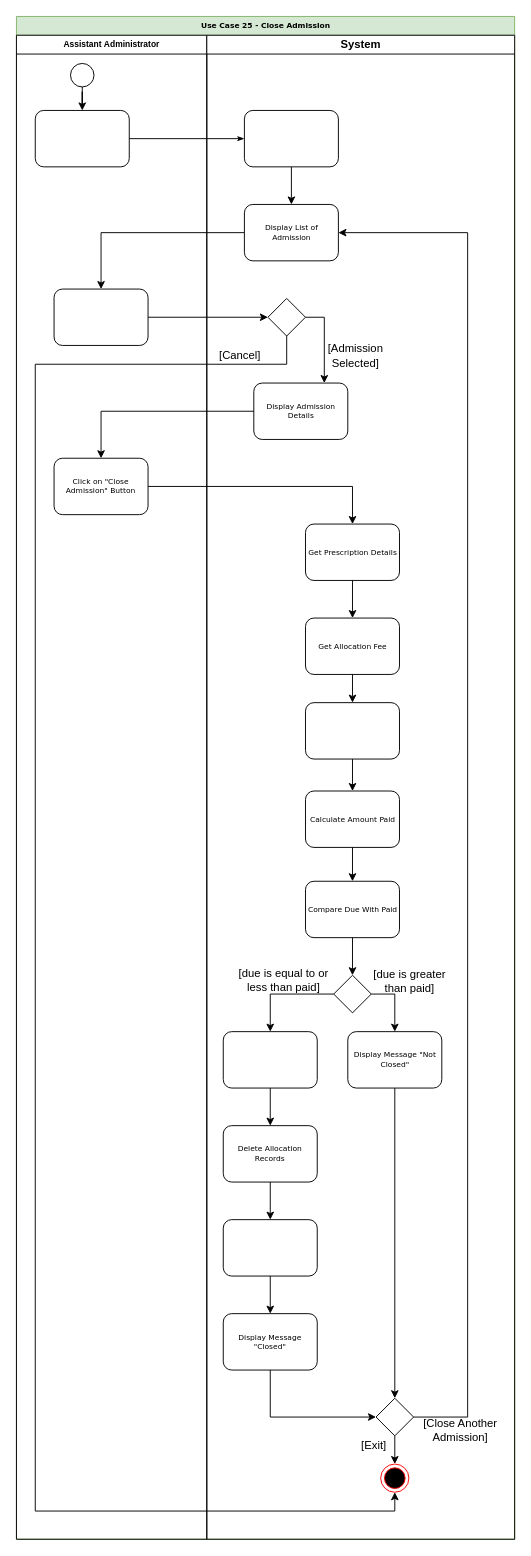
Some shapes in this 531 by 1556 pixel diagram are drawn without their labels. Each missing label, with the centre of its shape:
Calculate Amount Due: (x=352, y=730)
Delete Prescription Records: (x=269, y=1247)
Display "Close Admission" Form: (x=290, y=138)
Select "Close Admission" Form: (x=81, y=138)
Select Option: (x=100, y=316)
Update Status Closed: (x=269, y=1059)
